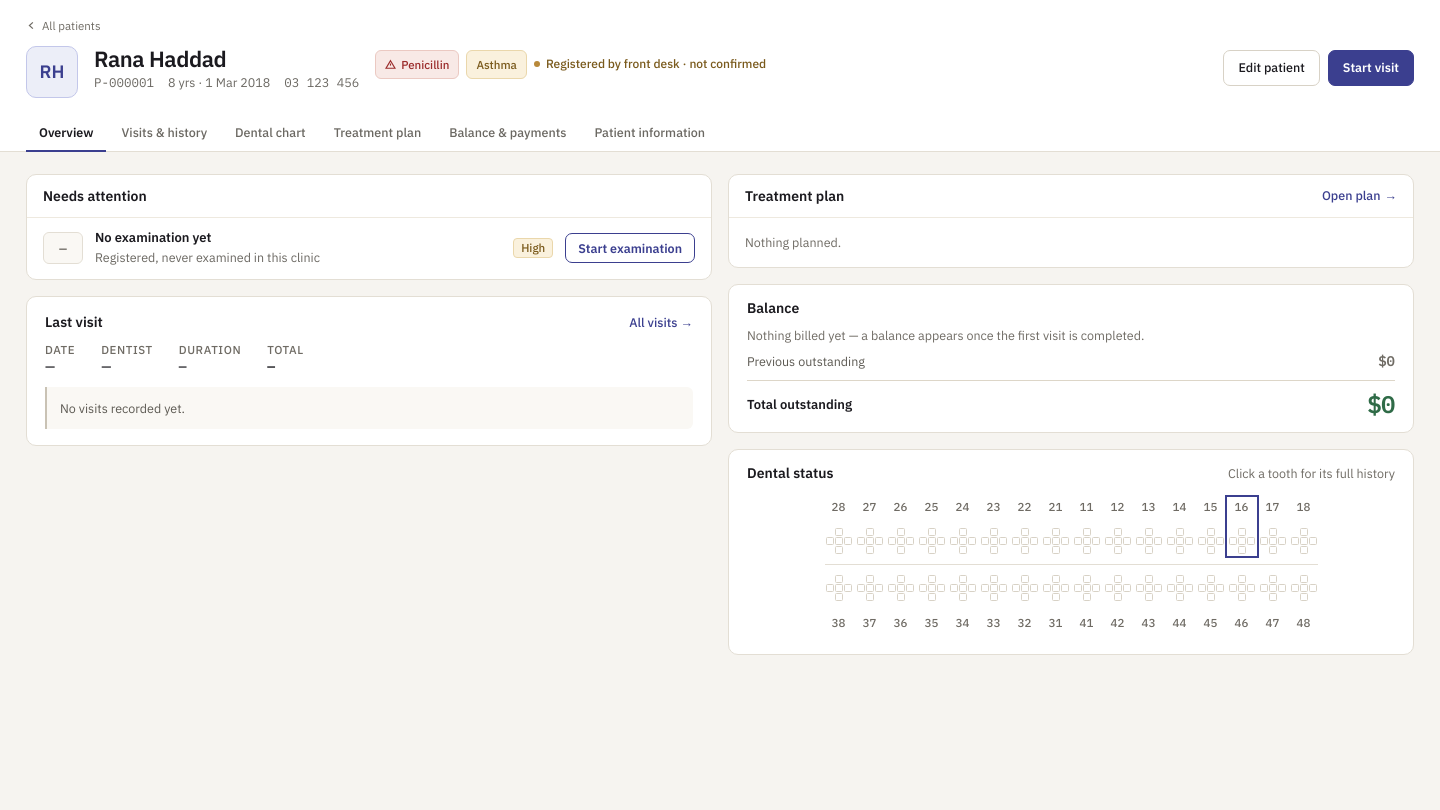
Test: ToothHistoryDialog › shows the three stages in order, each with its badges, dates and prices
Expected: the heading "Rana Haddad" is shown, left=94, top=46, right=226, bottom=71
Click the button named "#16 · " at (1242, 527), box left=1228, top=498, right=1256, bottom=556
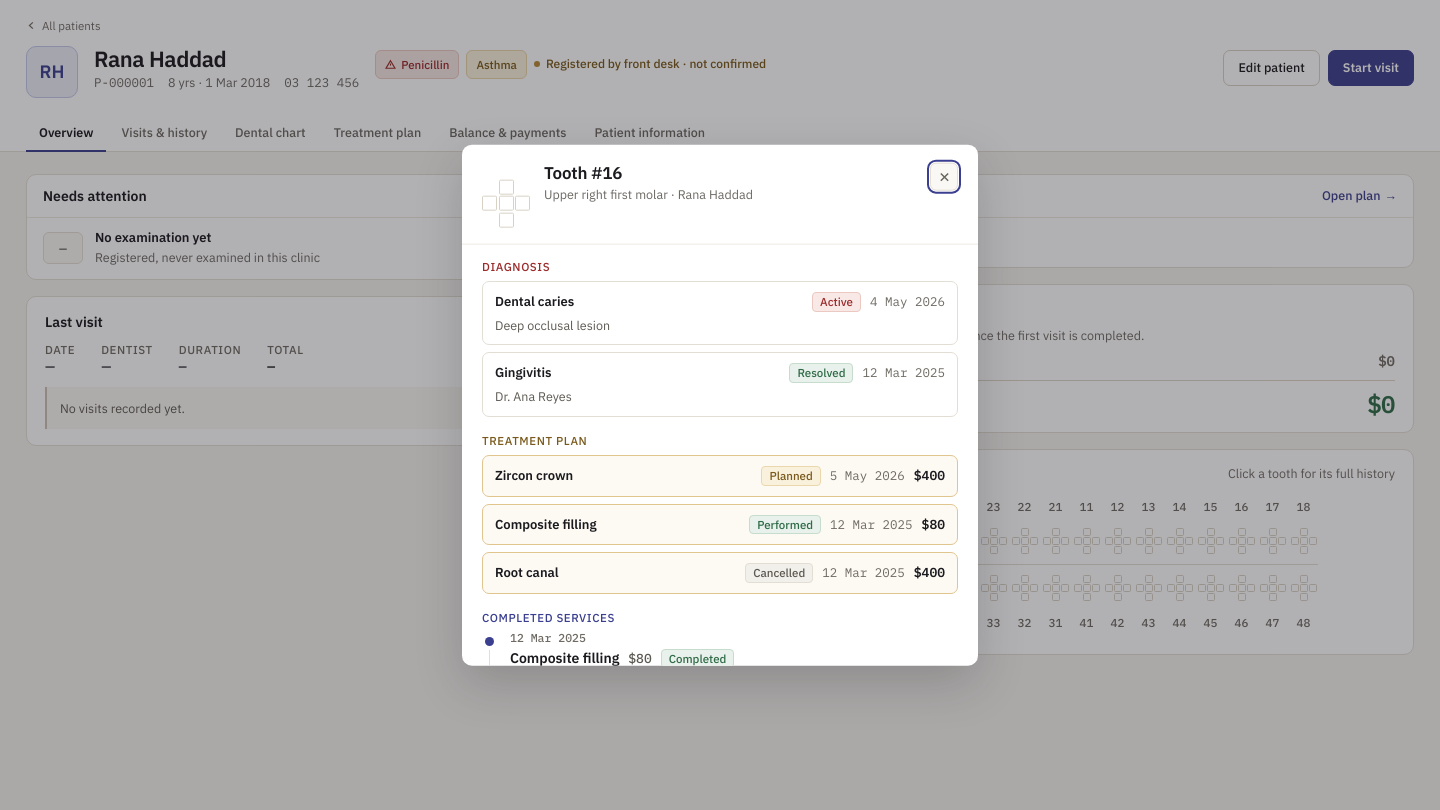
Expected: the text "Upper right first molar · Rana Haddad" is shown, left=544, top=186, right=753, bottom=204
Expected: the text "Dental caries" is shown, left=495, top=293, right=574, bottom=310
Expected: the headings read "Diagnosis", "Treatment plan", "Completed services", in this order, left=482, top=258, right=550, bottom=273; left=482, top=432, right=587, bottom=447; left=482, top=609, right=615, bottom=624
